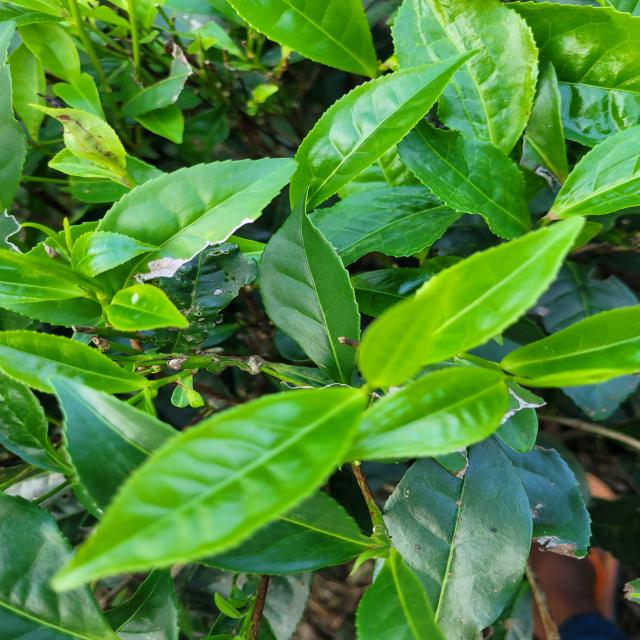Catagory A(1-2 days): (341, 273, 470, 400)
